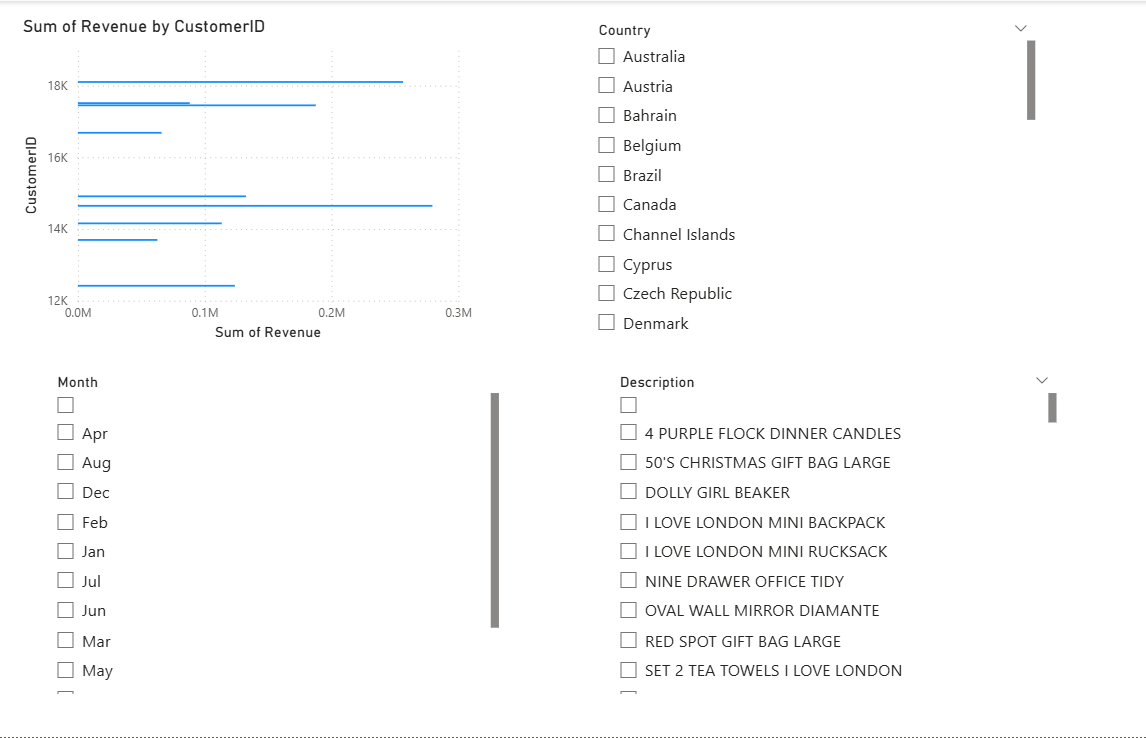

The page's visual inventory and layout, read from the dashboard file:
{"tool":"powerbi","page":{"name":"Page 3","canvas":[1280,720],"ordinal":2},"visuals":[{"type":"clusteredBarChart","fields":{"Category":["data.CustomerID"],"Y":["Sum(data.Revenue)"]},"box":[112.5,15,450,322.5],"z":0},{"type":"slicer","fields":{"Values":["data.Country"]},"box":[667.5,15,445,322.5],"z":1000},{"type":"slicer","fields":{"Values":["data.Month"]},"box":[138.8,360,450,323.8],"z":2000},{"type":"slicer","fields":{"Values":["data.Description"]},"box":[688.8,360,445,323.8],"z":3000}]}

Visuals, with their boxes on the page's 1280x720 design canvas (x1, y1, x2, y2). These are canvas units, not pixel positions in the 1146x738 screenshot, which may show the page scaled, cropped or inside an application window:
clusteredBarChart - data.CustomerID x Sum(data.Revenue): [x1=112, y1=15, x2=562, y2=338]
slicer - data.Country: [x1=668, y1=15, x2=1112, y2=338]
slicer - data.Month: [x1=139, y1=360, x2=589, y2=684]
slicer - data.Description: [x1=689, y1=360, x2=1134, y2=684]
